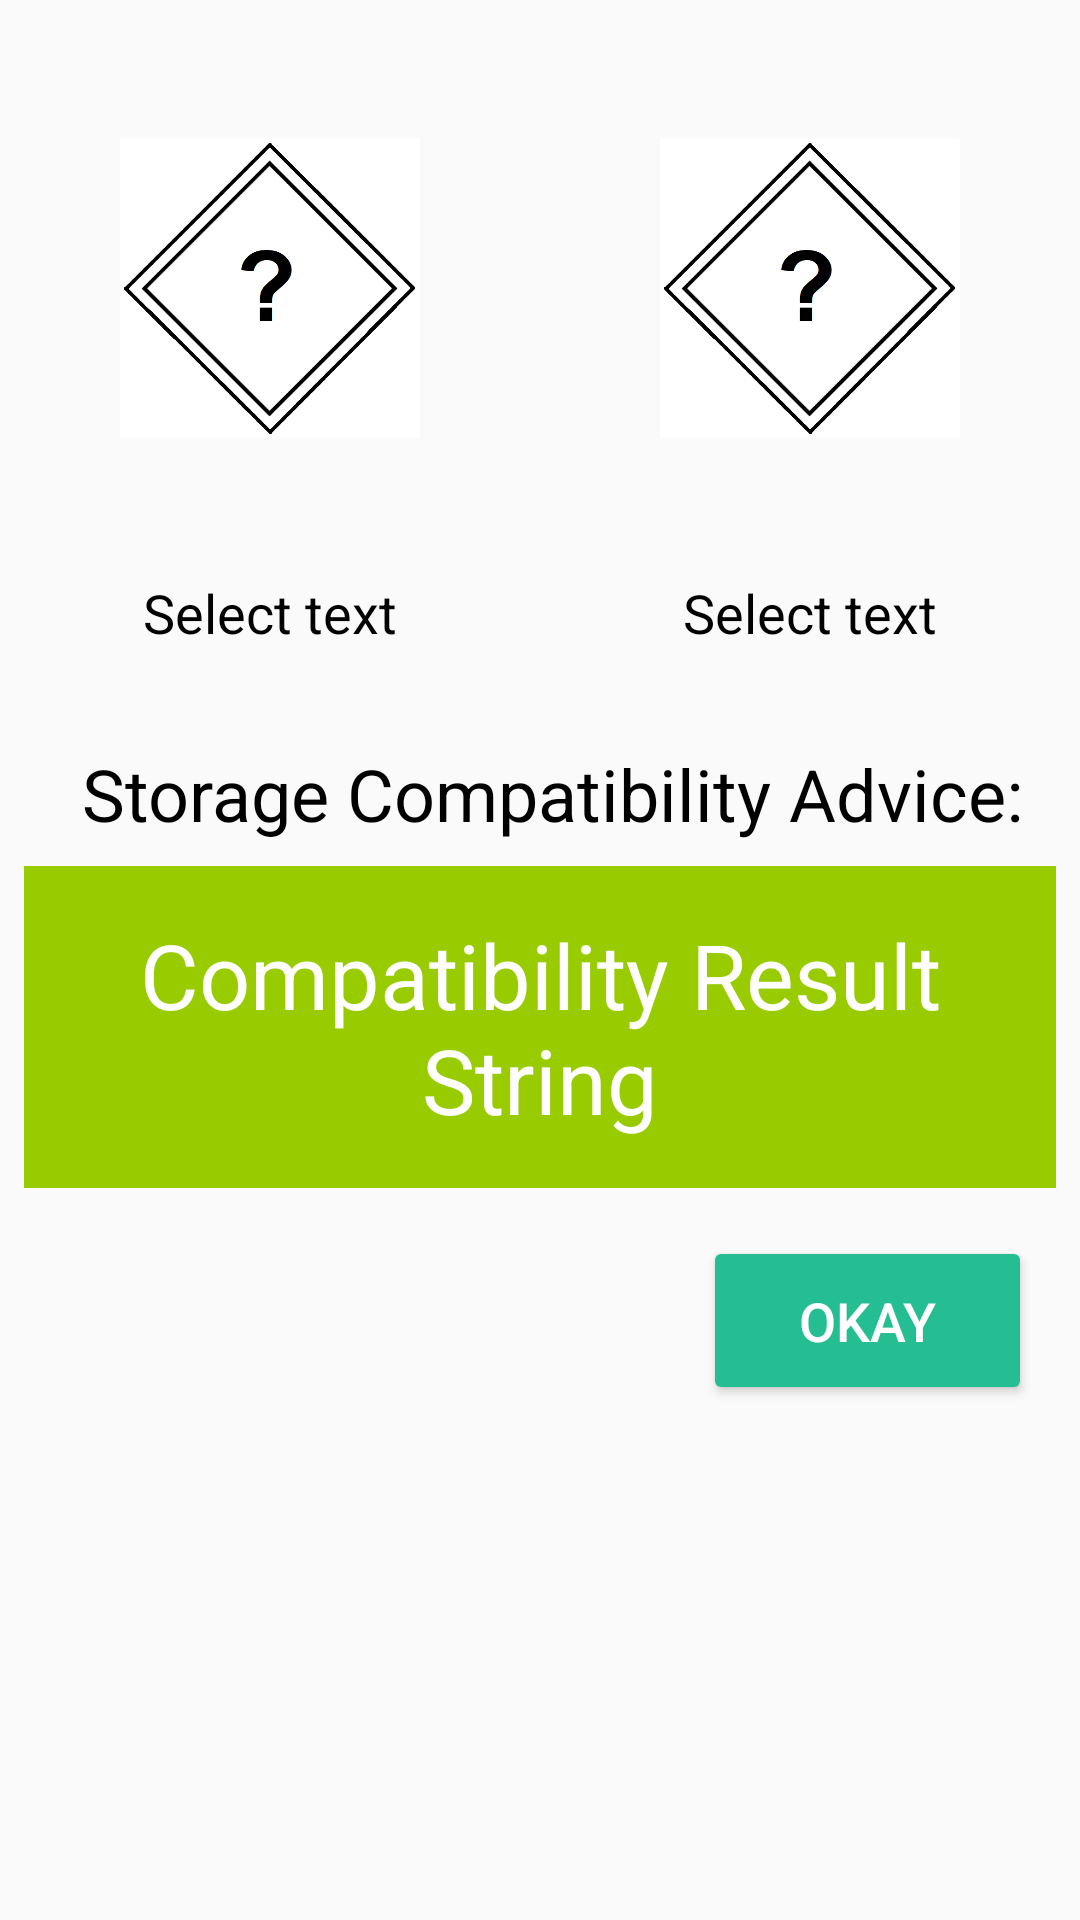

Point at icon controls on the screen. Image size 1080*1920, points as (x=x, y=y).
zplacehold: (x=269, y=288), (x=809, y=288)
